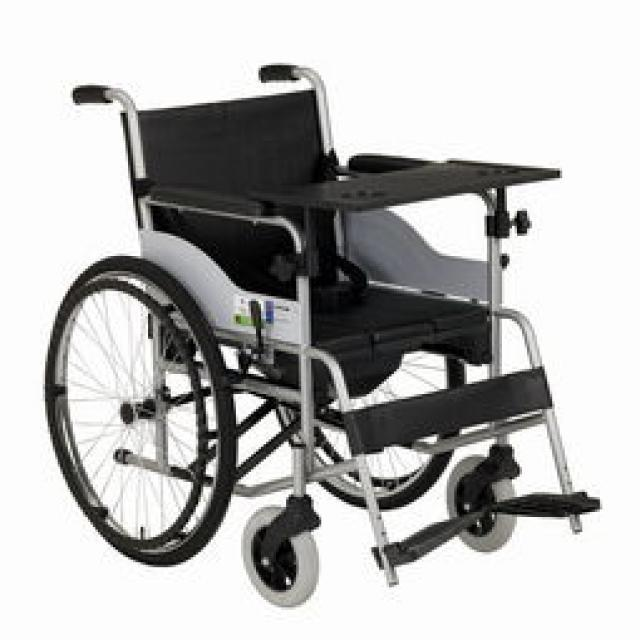wheelchair: (20, 58, 605, 595)
